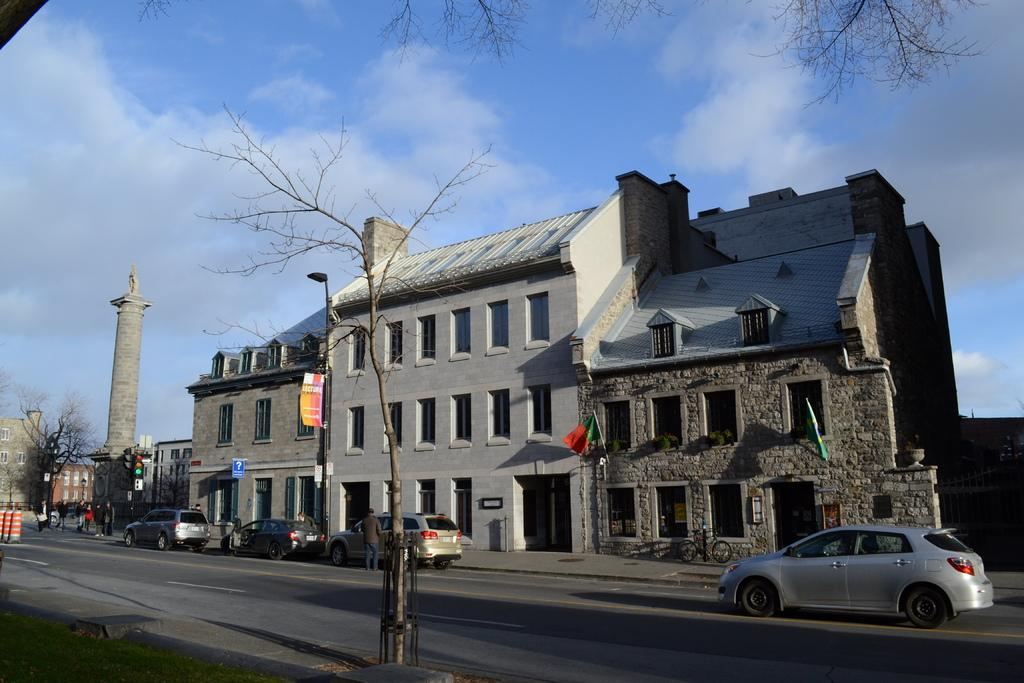Car: (716, 516, 996, 627), (323, 508, 460, 572), (220, 518, 324, 561), (123, 508, 211, 551), (50, 508, 72, 522)
